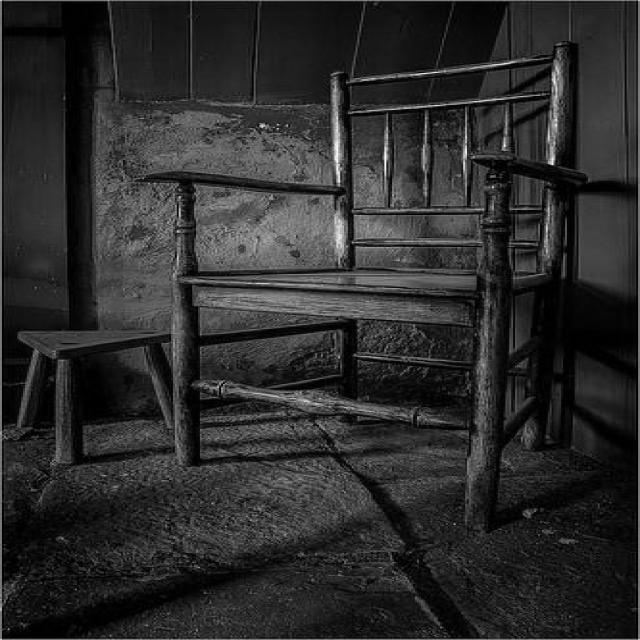chair: (140, 43, 584, 520)
